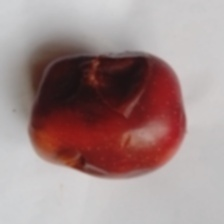apple: (42, 17, 210, 207)
